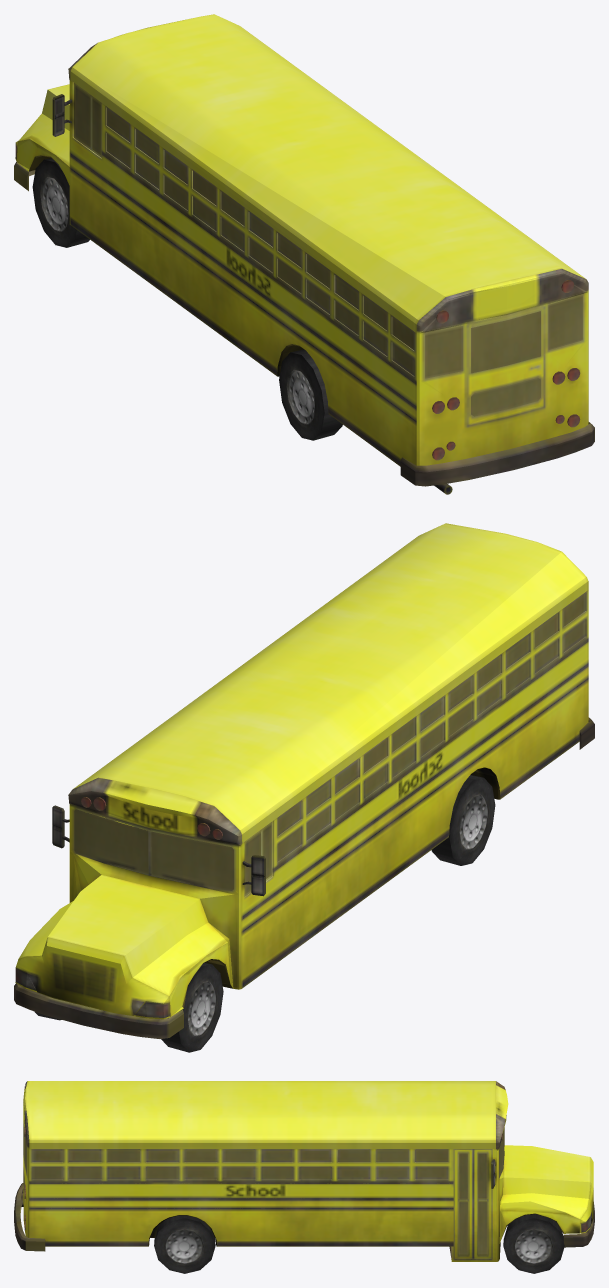
The model's file is schoolbus.DAE.
The picture shows the model from 3 angles, top to bottom: view 1: azimuth 30°, elevation 25°; view 2: azimuth 150°, elevation 25°; view 3: azimuth 270°, elevation 25°; orthographic projection. The views are drawn at different scales.
Visible parts, largest first — view 1: hull, wheels_spin001, wheels_spin_steer001; view 2: hull, wheels_spin001, wheels_spin_steer001; view 3: hull, wheels_spin_steer002, wheels_spin001.
Part boxes in pixels (x1,y1,x2,y2): hull: (14,14,594,494); wheels_spin001: (279,349,342,440); wheels_spin_steer001: (32,158,89,247); hull: (14,523,594,1038); wheels_spin001: (431,775,495,865); wheels_spin_steer001: (161,963,223,1052); hull: (14,1081,594,1261); wheels_spin_steer002: (503,1214,564,1273); wheels_spin001: (154,1215,215,1273).
Size of the model in its own units: 3.42 by 3.41 by 12.
Materials: 2 (2 with a texture image).
